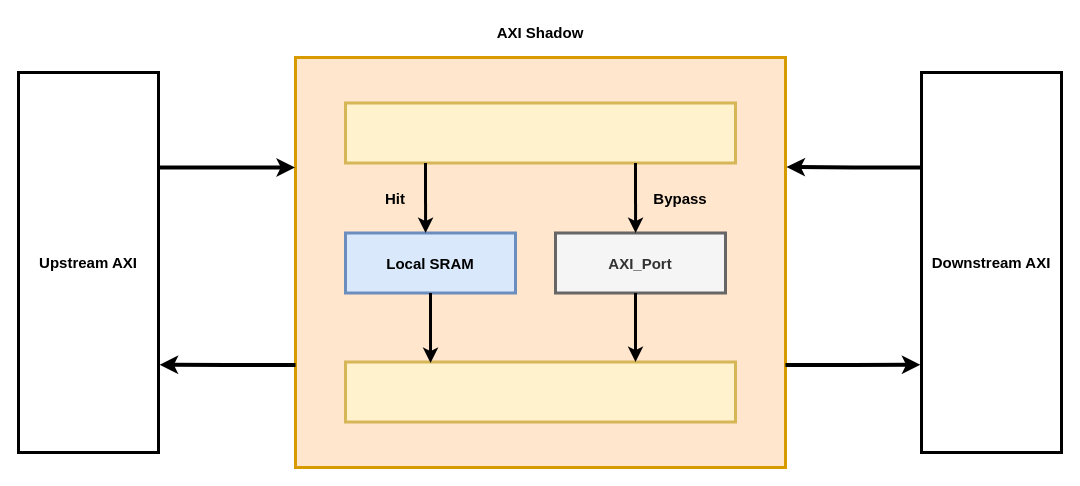
Some shapes in this 1080 by 486 pixel diagram are drawn without their labels. The shapes that lost their labels are listed below. From the top down, each one's centre as x and y in pixels, then its label:
At pixel 540 132: "Address Decoder".
At pixel 540 391: "Output Mux".
